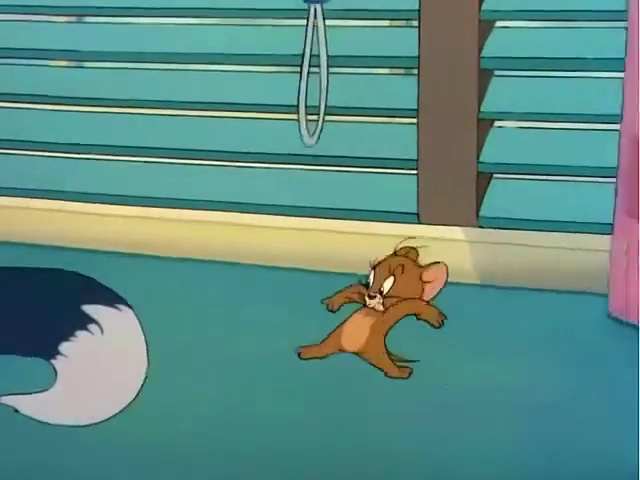jerry: (275, 238, 458, 377)
